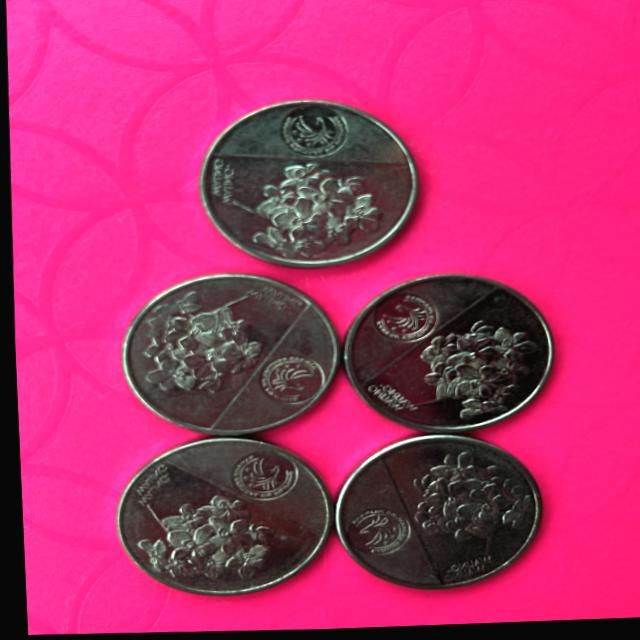1_New_Back: (243, 161, 398, 266), (405, 451, 541, 563), (393, 318, 540, 419), (135, 289, 267, 401), (135, 491, 272, 577)
